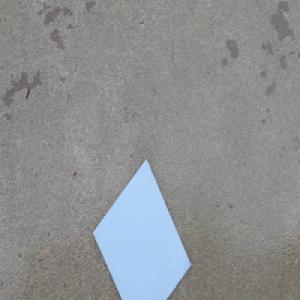PaintChip: (91, 157, 191, 300)
